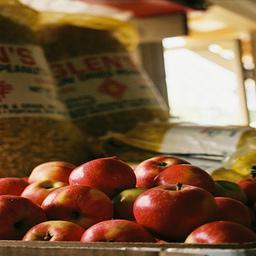apple: (133, 183, 218, 238), (42, 184, 113, 227), (68, 157, 136, 192), (183, 219, 256, 246), (80, 218, 158, 243), (135, 154, 191, 188), (25, 159, 76, 190), (150, 163, 215, 187), (22, 220, 86, 242), (20, 179, 69, 205)
